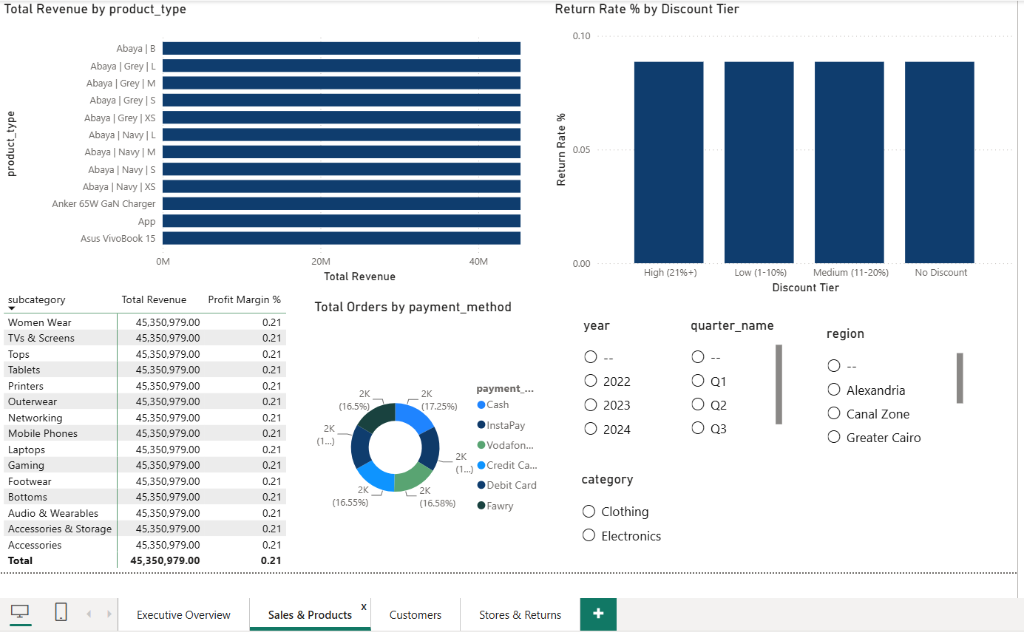

The page's visual inventory and layout, read from the dashboard file:
{"tool":"powerbi","page":{"name":"Sales & Products","canvas":[1280,720],"ordinal":1},"visuals":[{"type":"clusteredBarChart","fields":{"Category":["dim_products.product_type"],"Y":["fact_orders.Total Revenue"]},"box":[0,0,726.3,359.5],"z":0},{"type":"pivotTable","fields":{"Rows":["dim_products.category","dim_products.subcategory"],"Values":["fact_orders.Total Revenue","fact_orders.Profit Margin %"]},"box":[0,359.5,371.6,359.5],"z":1000},{"type":"lineStackedColumnComboChart","fields":{"Y":["fact_orders.Return Rate %"],"Category":["fact_order_details.Discount Tier"]},"box":[693.1,0,587.2,374.1],"z":2000},{"type":"donutChart","fields":{"Category":["fact_orders.payment_method"],"Y":["fact_orders.Total Orders"]},"box":[390.9,374,301.6,345],"z":3000},{"type":"listSlicer","fields":{"Values":["dim_date.year"]},"box":[728.6,398.1,93.2,163.7],"z":4000},{"type":"listSlicer","fields":{"Values":["dim_date.quarter_name"]},"box":[864.2,398.1,125.6,163.7],"z":5000},{"type":"listSlicer","fields":{"Values":["dim_customers.region"]},"box":[1034.7,407.9,182.1,163.7],"z":6000},{"type":"listSlicer","fields":{"Values":["dim_products.category"]},"box":[727,591.4,299.3,103],"z":7000}]}

Visuals, with their boxes on the page's 1280x720 design canvas (x1, y1, x2, y2). These are canvas units, not pixel positions in the 1024x632 screenshot, which may show the page scaled, cropped or inside an application window:
clusteredBarChart - dim_products.product_type x fact_orders.Total Revenue: x1=0, y1=0, x2=726, y2=360
pivotTable - dim_products.category x dim_products.subcategory: x1=0, y1=360, x2=372, y2=719
lineStackedColumnComboChart - fact_orders.Return Rate % x fact_order_details.Discount Tier: x1=693, y1=0, x2=1280, y2=374
donutChart - fact_orders.payment_method x fact_orders.Total Orders: x1=391, y1=374, x2=692, y2=719
listSlicer - dim_date.year: x1=729, y1=398, x2=822, y2=562
listSlicer - dim_date.quarter_name: x1=864, y1=398, x2=990, y2=562
listSlicer - dim_customers.region: x1=1035, y1=408, x2=1217, y2=572
listSlicer - dim_products.category: x1=727, y1=591, x2=1026, y2=694
